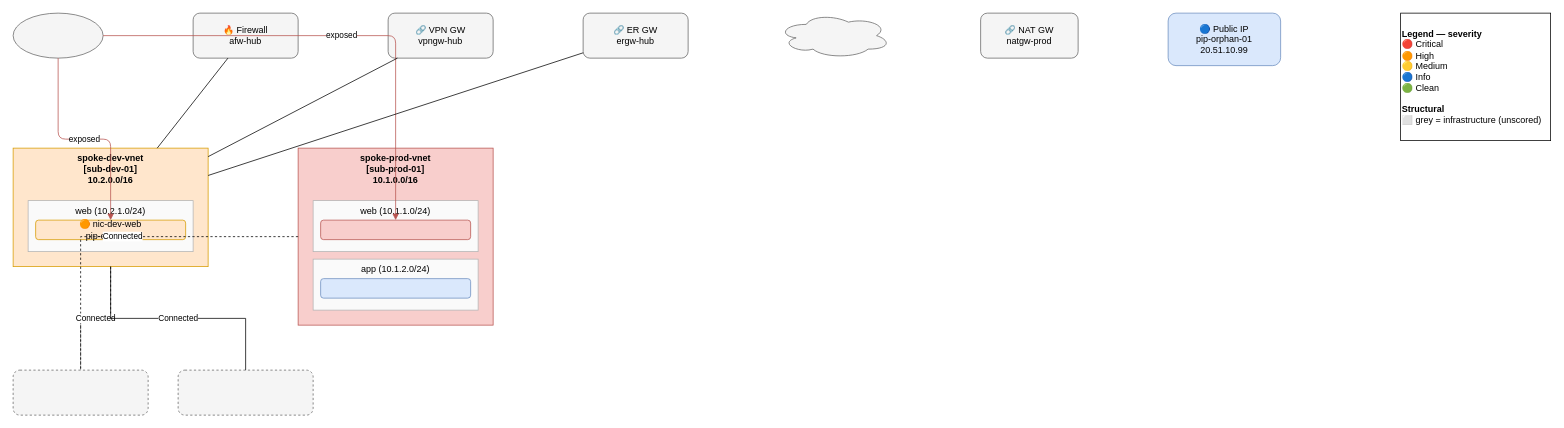
This 1564x428 diagram has some shape labels left out. The shapes that lost their labels are listed below. From the top down, each one's centre as x and y in pixels, then its label:
At point (57, 35): "🌐 Internet".
At point (834, 35): "ExpressRoute er-circuit-att".
At point (395, 229): "🔴 nic-prod-web pip-prod-web".
At point (395, 288): "🔵 nic-prod-app".
At point (80, 392): "↗ hub-vnet (outside scope)".
At point (245, 392): "↗ remote-shared-vnet (outside scope)".
